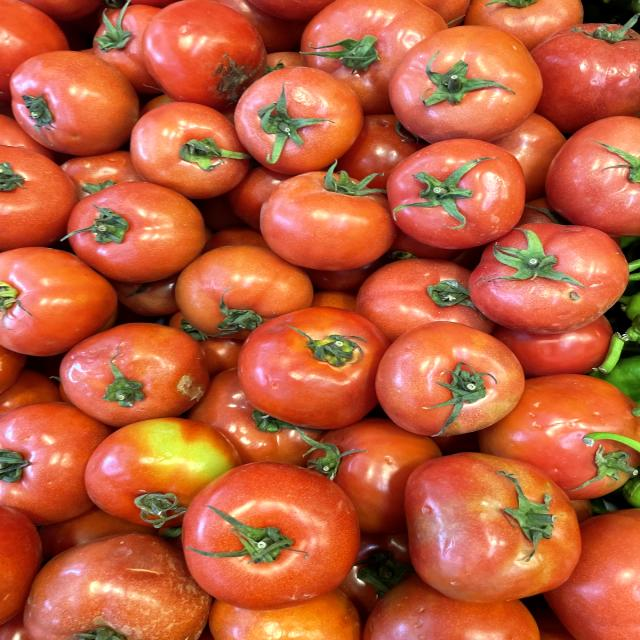tomato: (388, 438, 607, 607), (165, 455, 372, 603), (217, 291, 403, 426), (453, 205, 640, 329), (385, 20, 563, 144), (368, 132, 565, 243), (374, 315, 530, 442), (40, 312, 216, 423), (55, 172, 220, 284), (222, 64, 386, 172), (256, 161, 412, 272), (0, 47, 149, 158)
